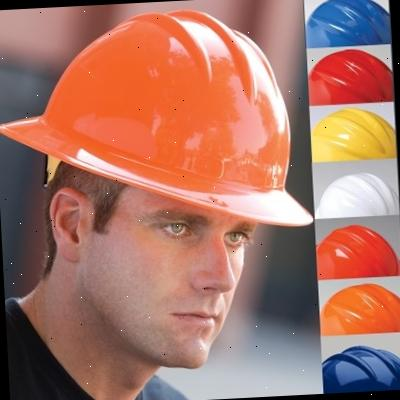helmet: (0, 2, 315, 245), (310, 105, 398, 164), (308, 48, 396, 106), (316, 223, 400, 282), (319, 280, 400, 337), (312, 169, 399, 218), (323, 343, 400, 394), (306, 0, 389, 46)
